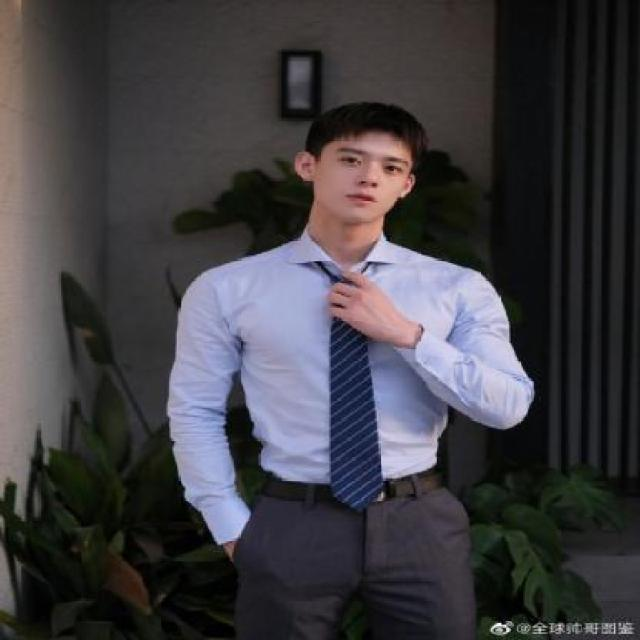sem_oculos: (303, 144, 424, 182)
